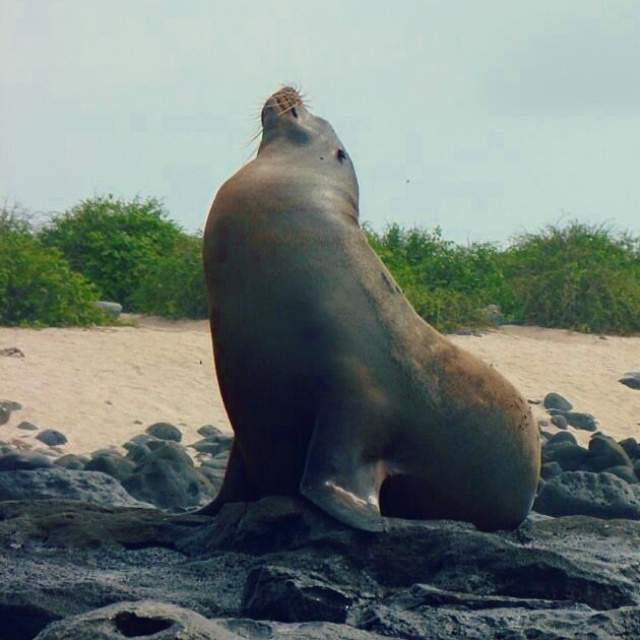Harbor seal: (171, 78, 544, 529)
